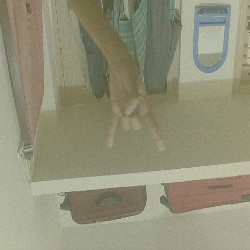hand: (94, 55, 168, 160)
